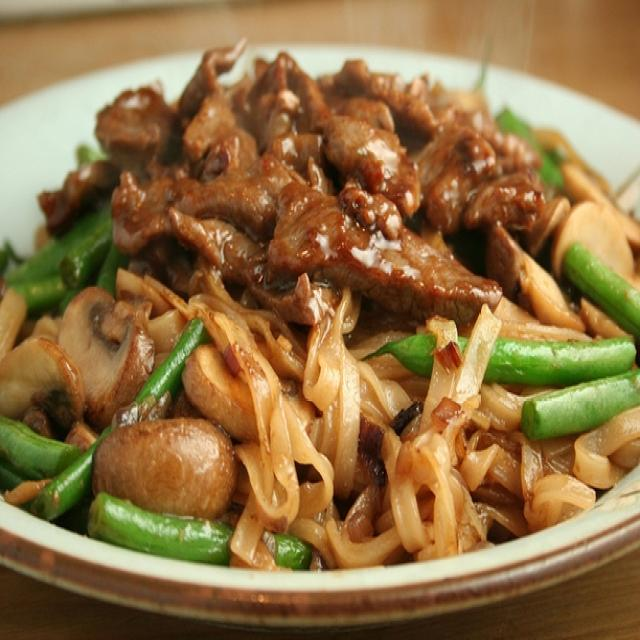牛肉菜式: (20, 47, 603, 599)
